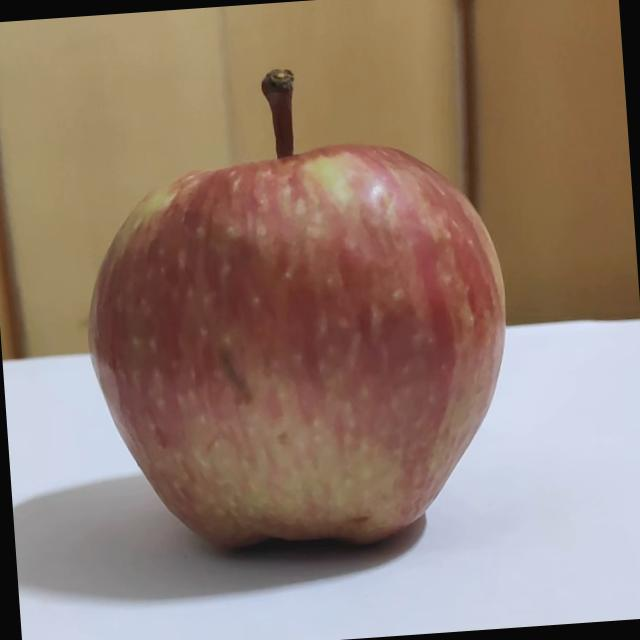apple: (64, 45, 522, 565)
